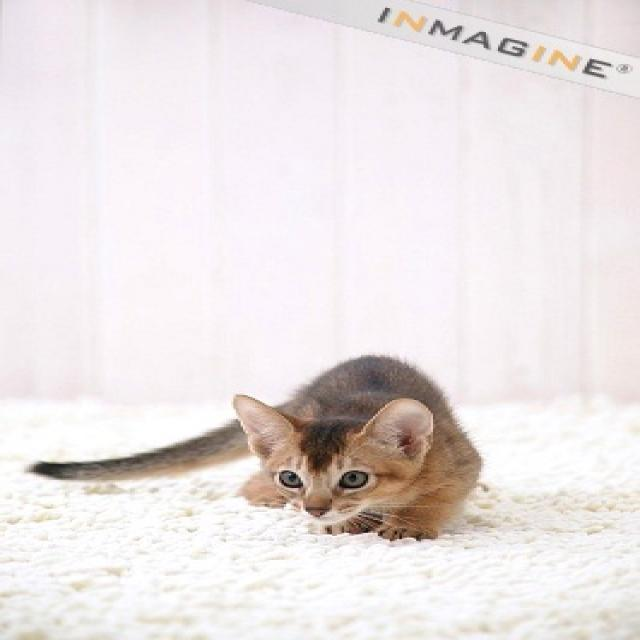cat: (229, 392, 428, 523)
